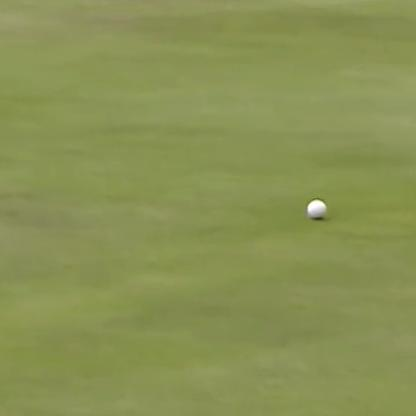golfball: (303, 196, 327, 220)
